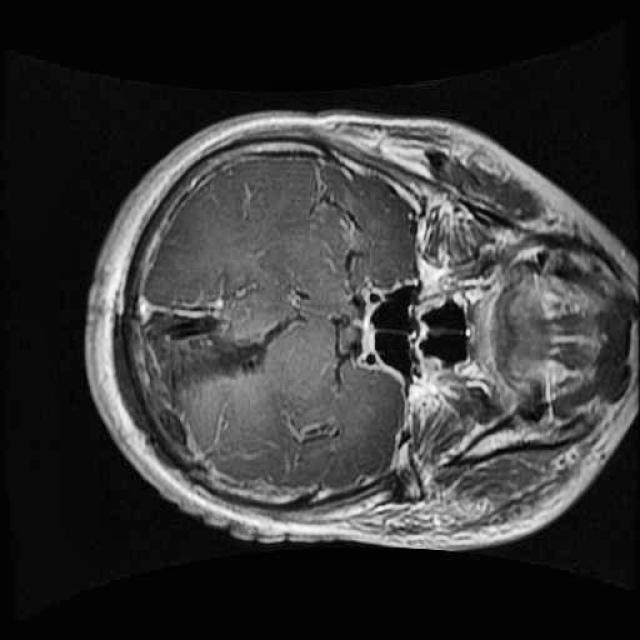Non-Tumor: (120, 298, 318, 422)
